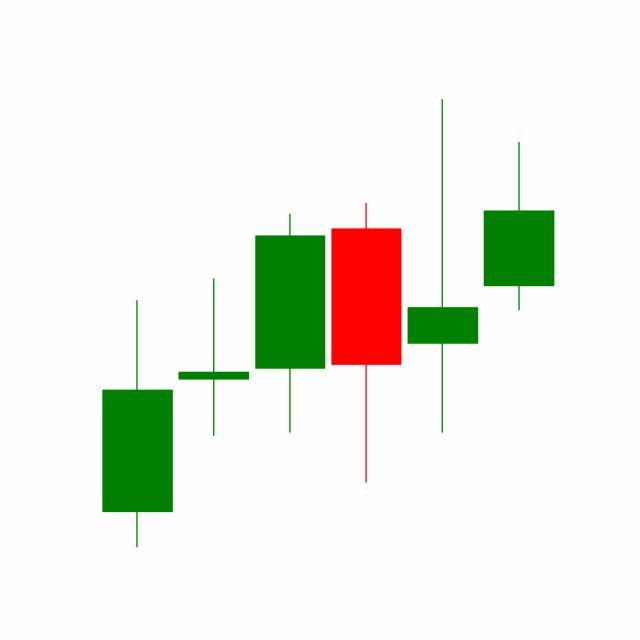Three Inside Up-Down: (326, 100, 555, 489)
